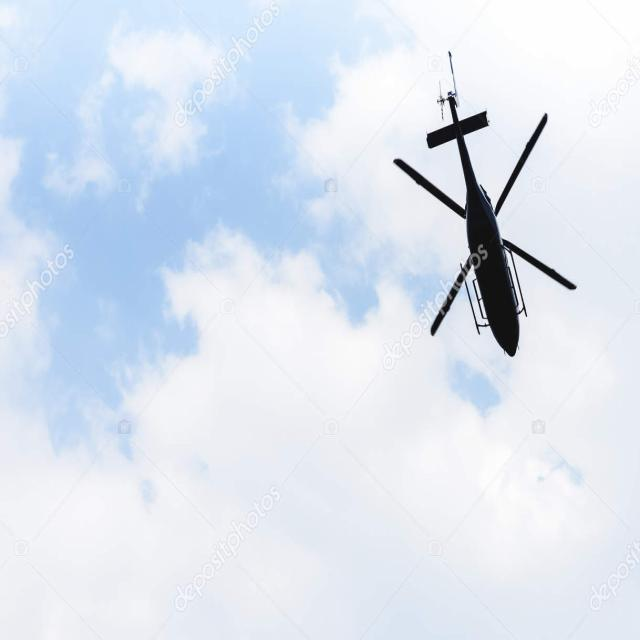helicopter: (390, 50, 578, 359)
